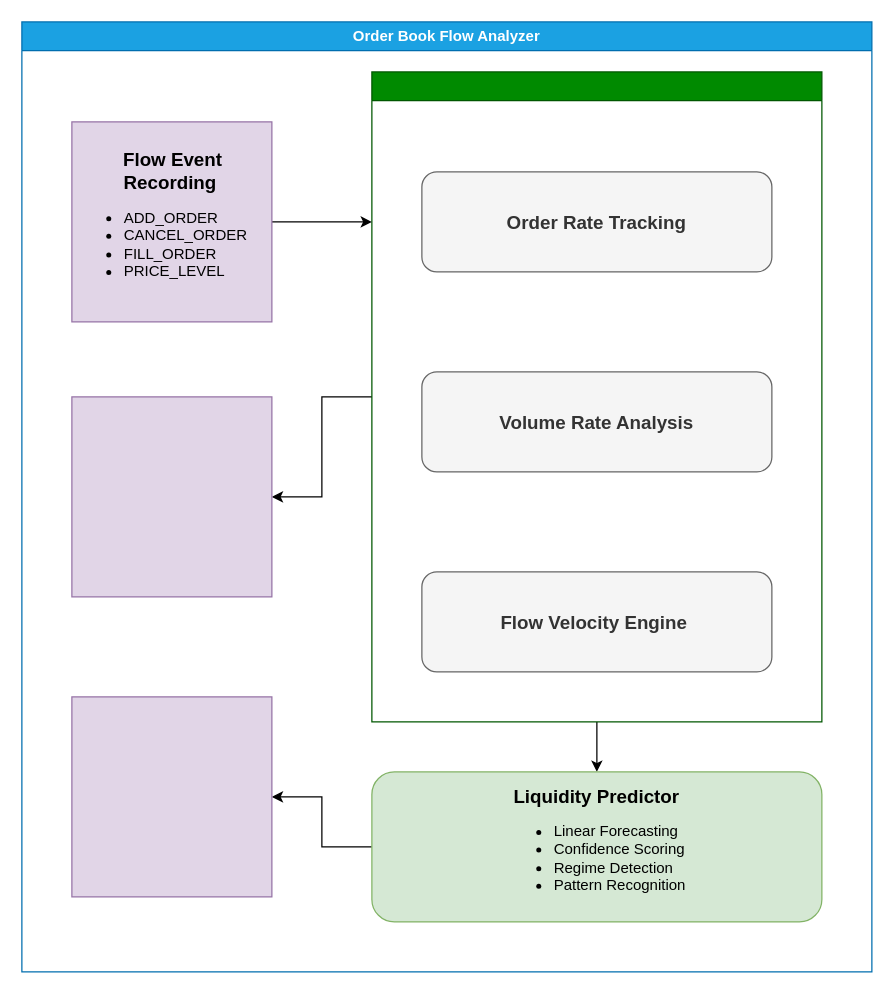
Some shapes in this 894 by 994 pixel diagram are drawn without their labels. Each missing label, with the box of its shape:
Flow Metrics Engine: (371, 71, 822, 722)
Imbalance Analysis Volume Order Count Weighted Top Level: (71, 396, 272, 597)
Liquidity Prediction Bid Liquidity Ask Liquidity Confidence Score: (71, 696, 272, 897)
